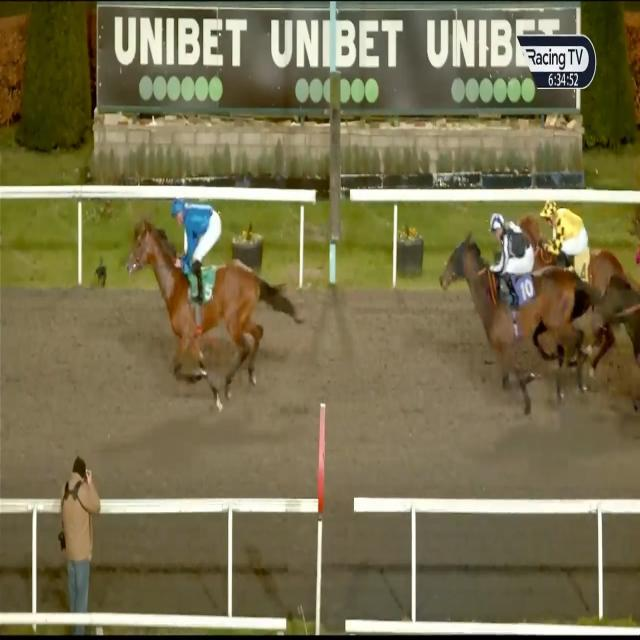horses-racing: (122, 193, 279, 397), (442, 214, 588, 414), (519, 198, 625, 300)
